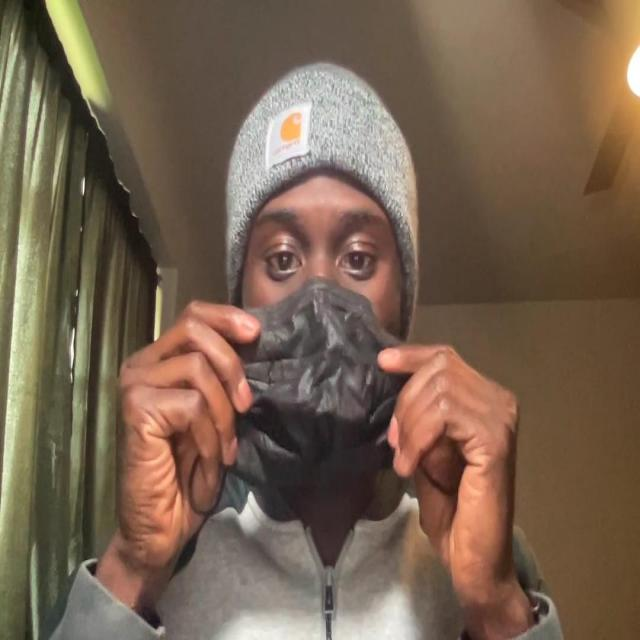face: (223, 104, 424, 461)
